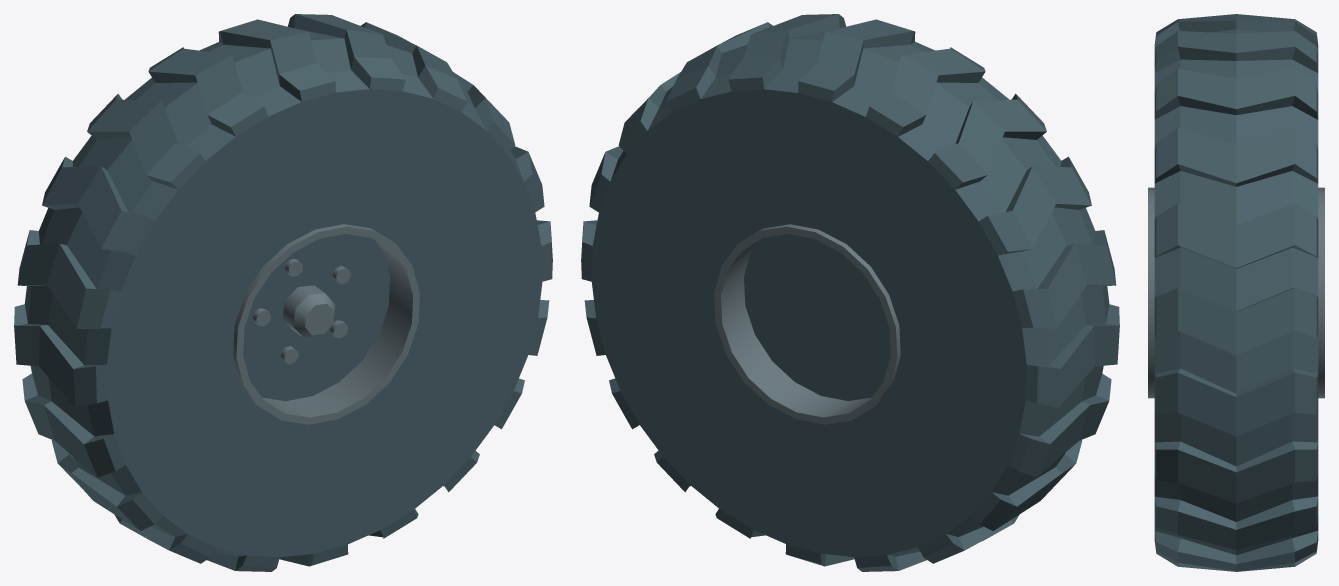
File: tire.fbx
3 views of the same model, side by side, from view 1: azimuth 30°, elevation 25°; view 2: azimuth 150°, elevation 25°; view 3: azimuth 270°, elevation 25° (orthographic).
Visible parts, largest first — view 1: Front_wheel.001; view 2: Front_wheel.001; view 3: Front_wheel.001.
Part boxes in pixels (x1=…): Front_wheel.001: x1=14, y1=14, x2=552, y2=571; Front_wheel.001: x1=581, y1=14, x2=1119, y2=571; Front_wheel.001: x1=1148, y1=14, x2=1324, y2=571.
Size of the model in its own units: 99.99 by 99.99 by 31.65.
